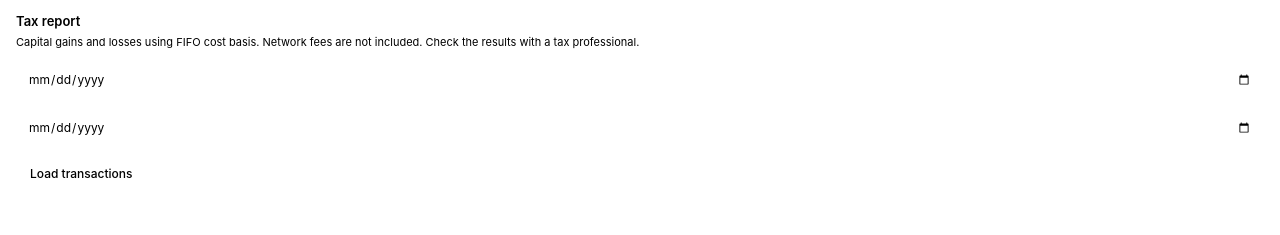
TaxReportExport › date validation › clears error when date range becomes valid
This screenshot has width=1280, height=235.
// Create invalid range
Type "2024-12-31" into the date field named "Tax report from date" at (640, 80), box 16,62 -> 1264,98
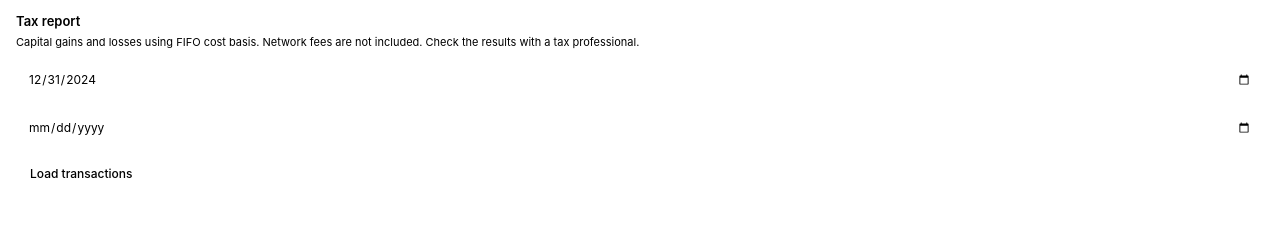
Type "2024-01-01" into the date field named "Tax report to date" at (640, 128), box 16,110 -> 1264,146
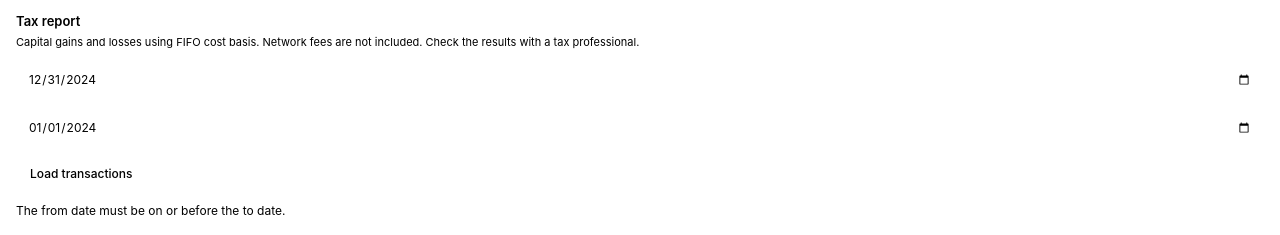
Check: the text "The from date must be on or before the to date." is shown, box 16,203 -> 286,218
// Fix the range
Type "2024-12-31" into the date field named "Tax report to date" at (640, 128), box 16,110 -> 1264,146
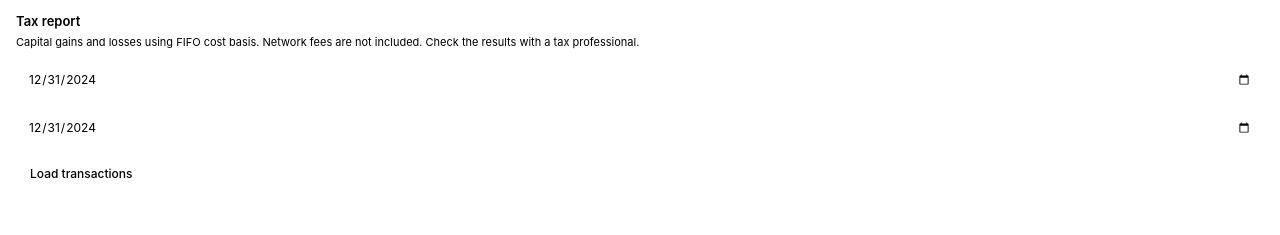
Check: the text "from date must be on or before the to date" is gone
